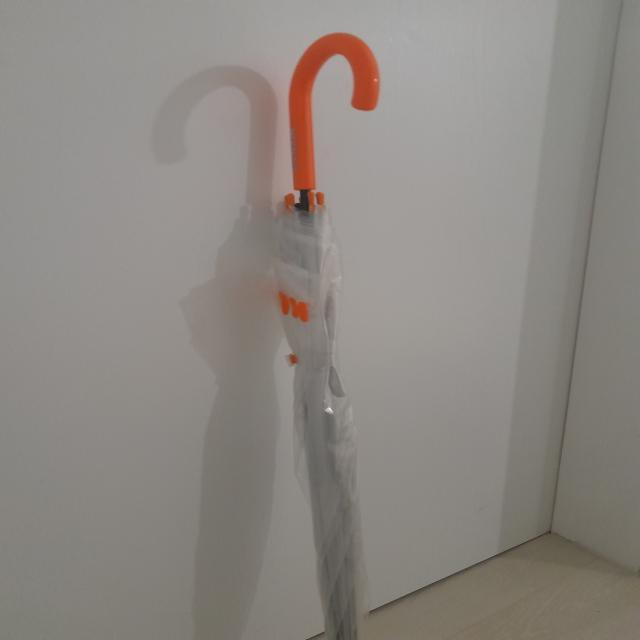umbrella: (252, 36, 378, 640)
